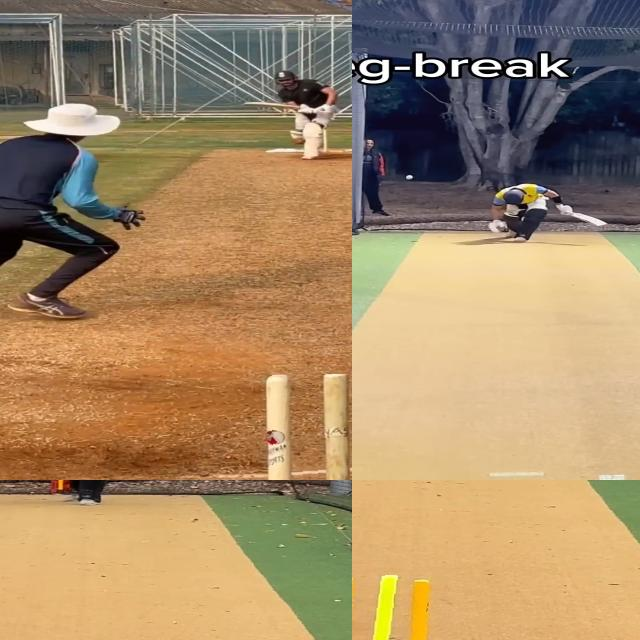Cricket ball: (291, 138, 307, 145), (406, 175, 414, 180)
Stumps: (264, 374, 352, 480), (352, 575, 448, 640)
